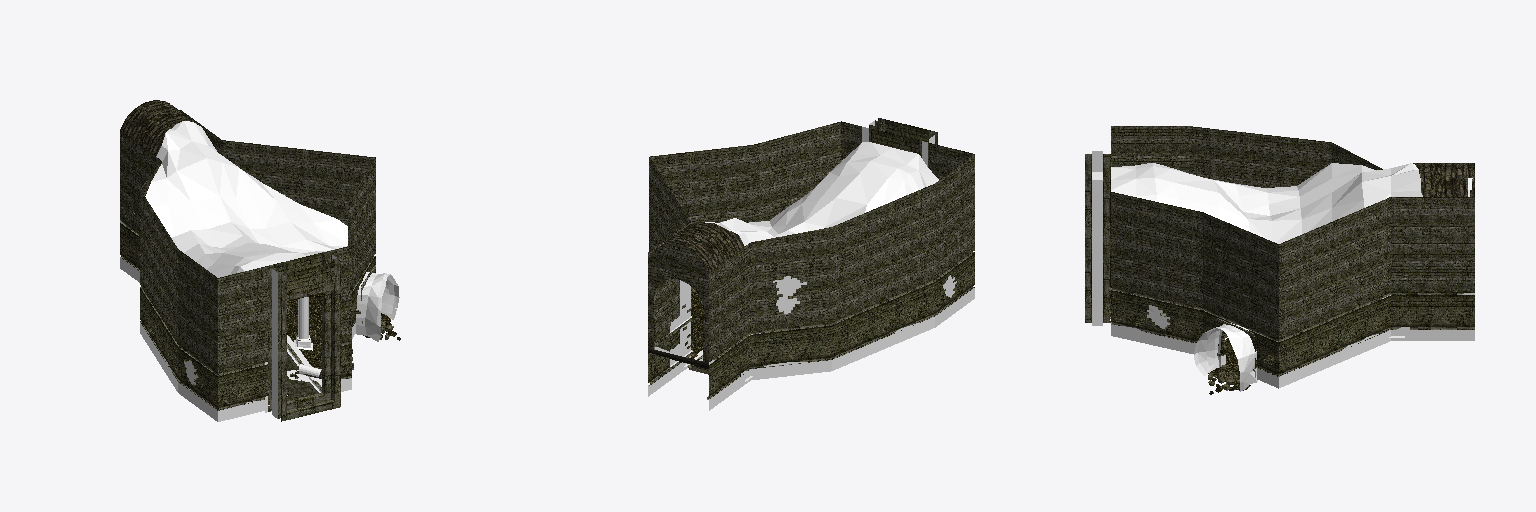
The picture shows the model from 3 angles: view 1: azimuth 30°, elevation 25°; view 2: azimuth 150°, elevation 25°; view 3: azimuth 270°, elevation 25°; orthographic projection.
Visible parts, largest first — view 1: mesh8, mesh3, mesh7, mesh2, mesh4, mesh9, mesh13, mesh11, mesh14; view 2: mesh8, mesh3, mesh7, mesh2, mesh10, mesh13; view 3: mesh8, mesh3, mesh7, mesh2, mesh4, mesh11.
Boxes of the visible parts, x1,y1,x2,y2 form: mesh8: [120, 105, 375, 421]; mesh3: [120, 121, 355, 421]; mesh7: [120, 223, 393, 410]; mesh2: [120, 100, 309, 340]; mesh4: [287, 272, 388, 395]; mesh9: [120, 121, 350, 405]; mesh13: [287, 293, 321, 368]; mesh11: [121, 104, 399, 374]; mesh14: [287, 343, 321, 400]; mesh8: [648, 118, 974, 362]; mesh3: [648, 121, 974, 410]; mesh7: [648, 119, 974, 399]; mesh2: [657, 222, 744, 272]; mesh10: [670, 127, 927, 366]; mesh13: [691, 295, 702, 358]; mesh8: [1085, 126, 1474, 339]; mesh3: [1092, 151, 1474, 388]; mesh7: [1109, 287, 1474, 390]; mesh2: [1413, 163, 1474, 196]; mesh4: [1206, 323, 1257, 389]; mesh11: [1194, 178, 1472, 391].
Bounding box in the file's own units: 11.75 × 7.75 × 16.11.
15 materials, 9 textured.